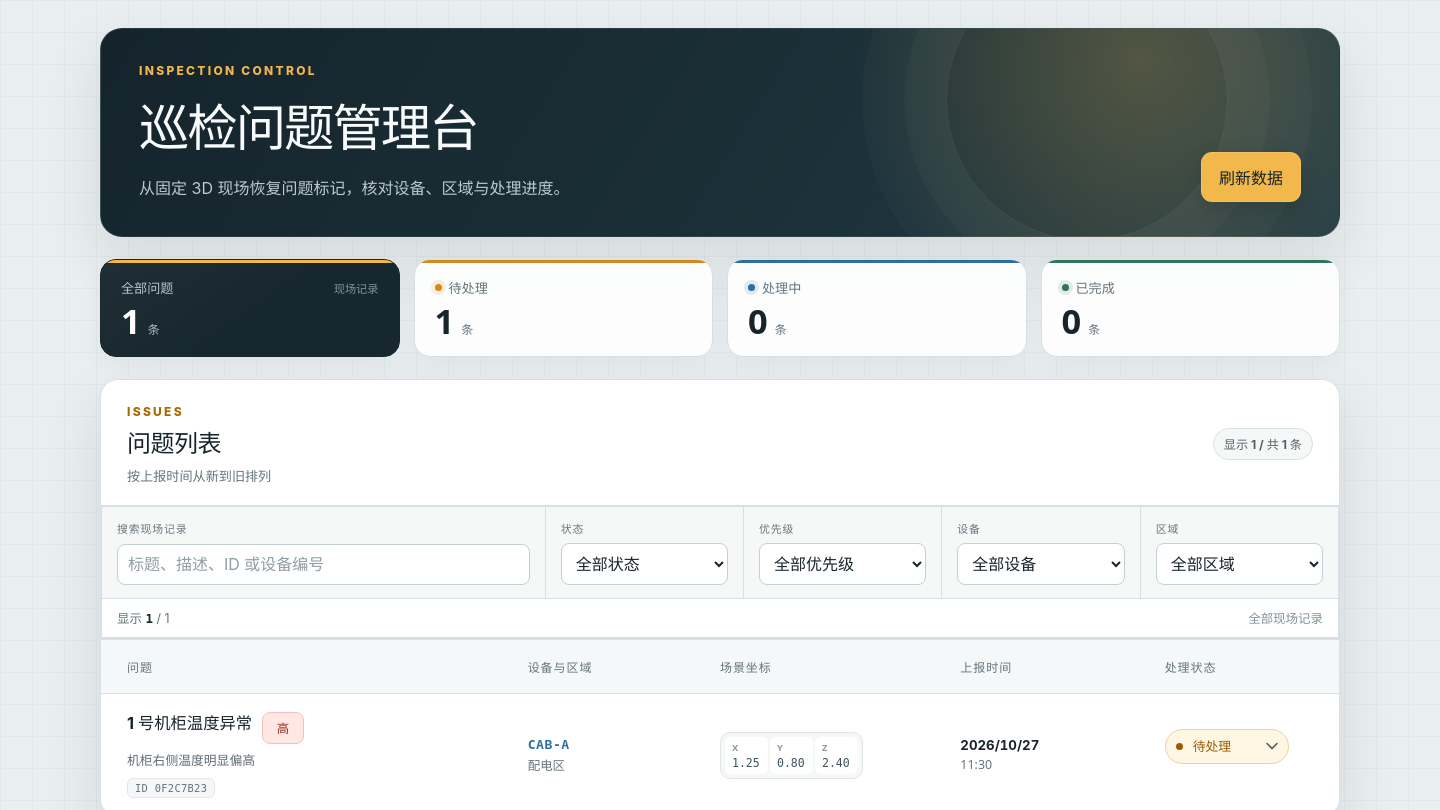
Test: inspection issue dashboard › keeps the detail open and shows an error when deletion fails
Click the button "1 号机柜温度异常" at (190, 723), box [127,712,252,734]
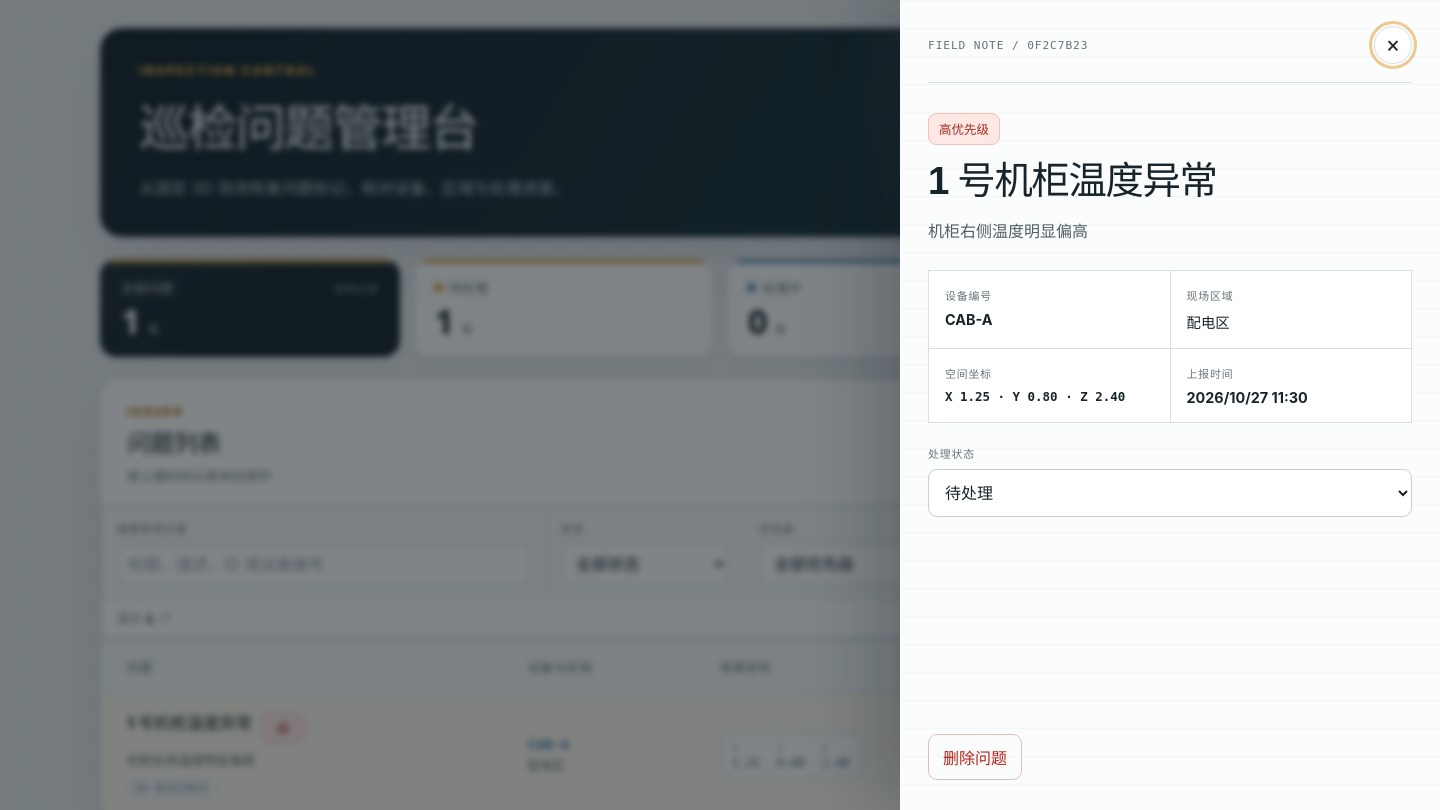
Click the button "删除问题" at (975, 757), box [928,734,1022,780]
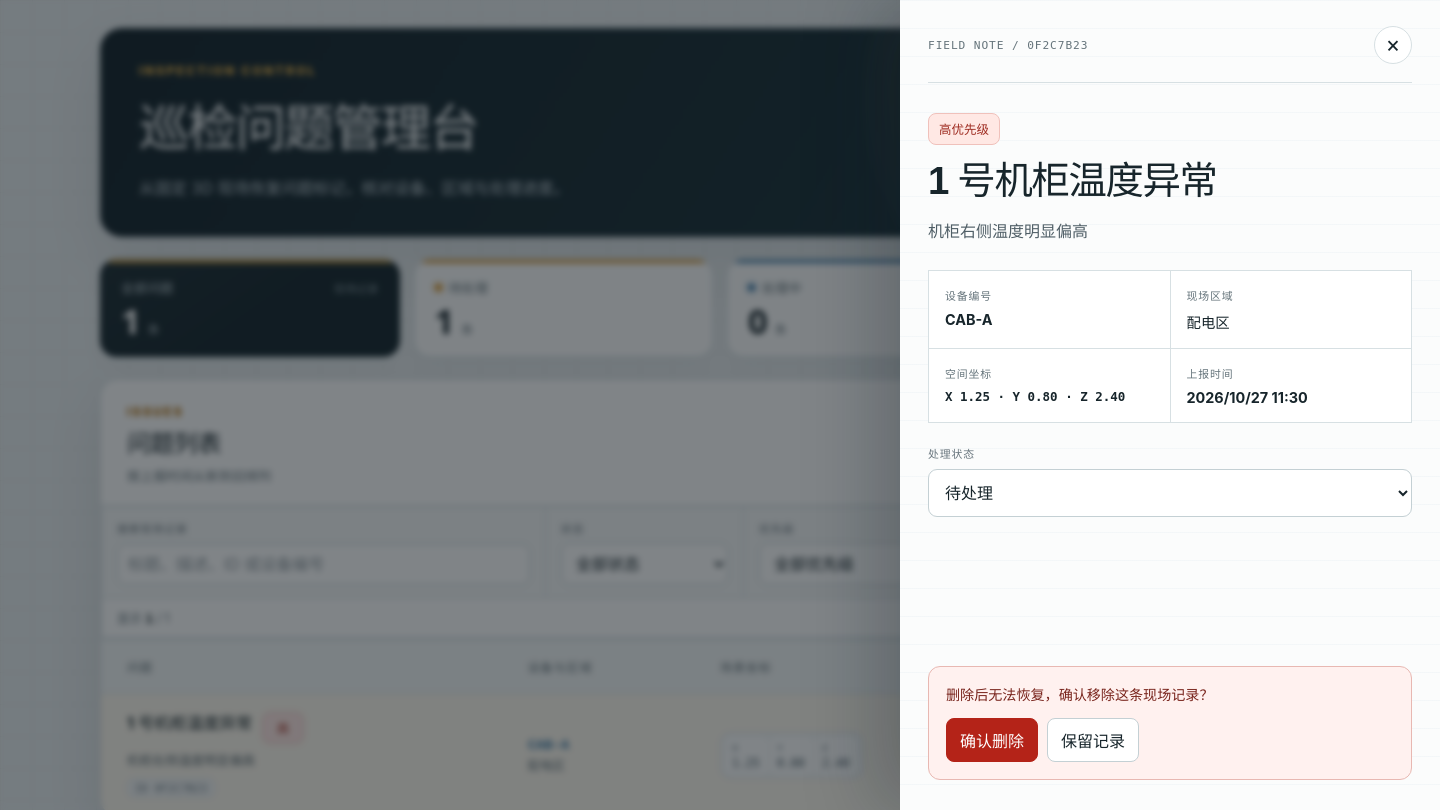
Click the button "确认删除" at (992, 740), box [946,718,1038,762]
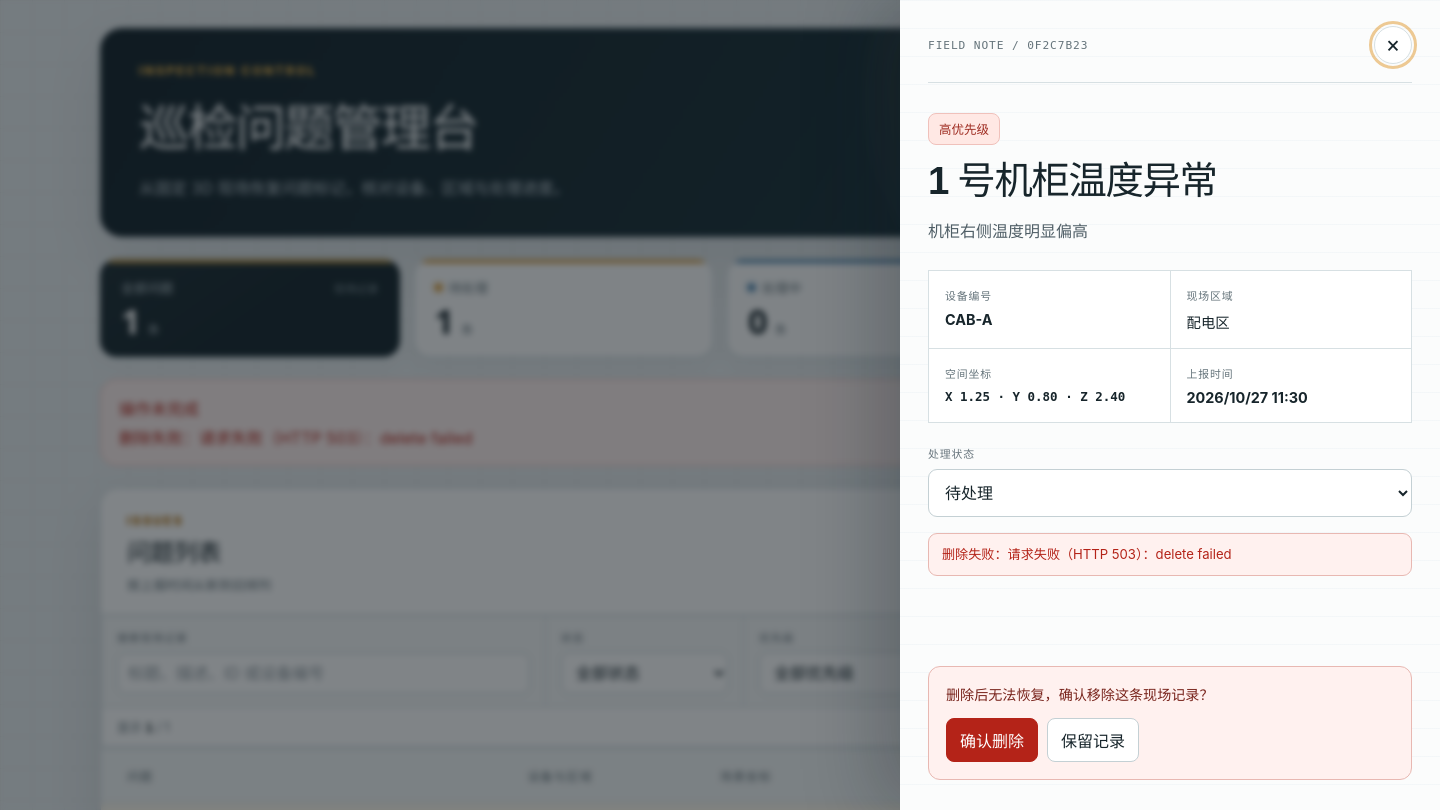
Expected: the heading "1 号机柜温度异常" is shown, [928,159,1217,202]
Expected: the message shows "删除失败", [942,546,1232,562]
